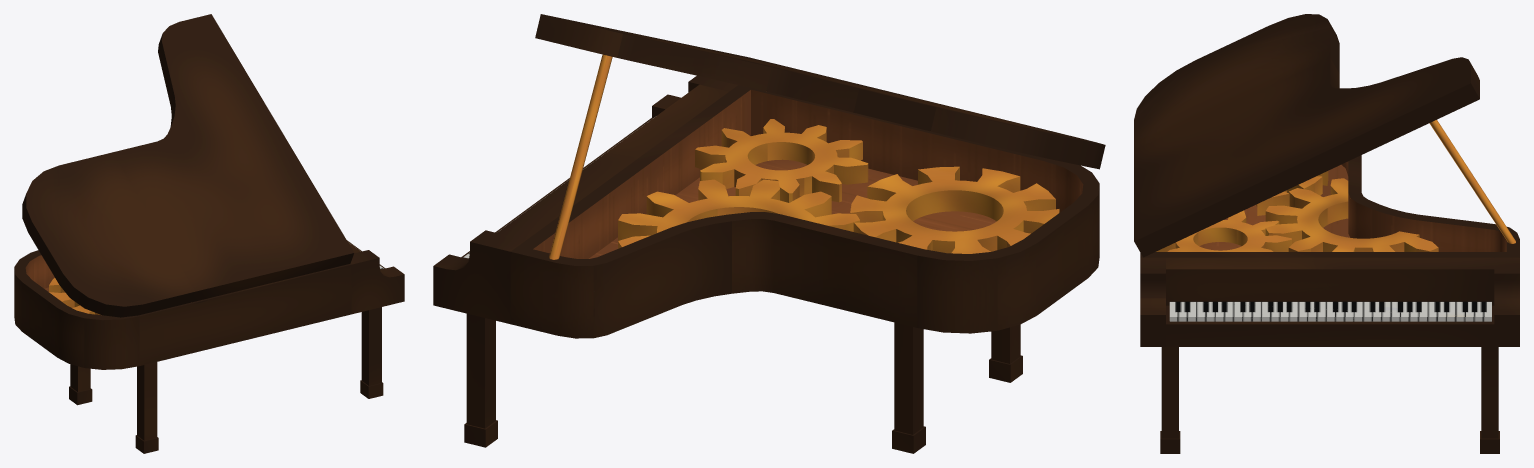
File: PIANO.fbx
3 views of the same model, side by side, from view 1: azimuth 30°, elevation 25°; view 2: azimuth 150°, elevation 25°; view 3: azimuth 270°, elevation 25° (orthographic). The views are drawn at different scales.
Visible parts, largest first — view 1: piano.001, piano peças.001; view 2: piano.001, piano peças.001; view 3: piano.001, piano peças.001.
Part boxes in pixels (bbox=[...]): piano.001: bbox=[14, 14, 404, 453]; piano peças.001: bbox=[49, 278, 101, 315]; piano.001: bbox=[433, 14, 1105, 453]; piano peças.001: bbox=[618, 119, 1059, 253]; piano.001: bbox=[1134, 14, 1519, 453]; piano peças.001: bbox=[1156, 171, 1438, 251].
Bounding box in the file's own units: 325 × 288 × 290.
Materials: 2 (2 with a texture image).
